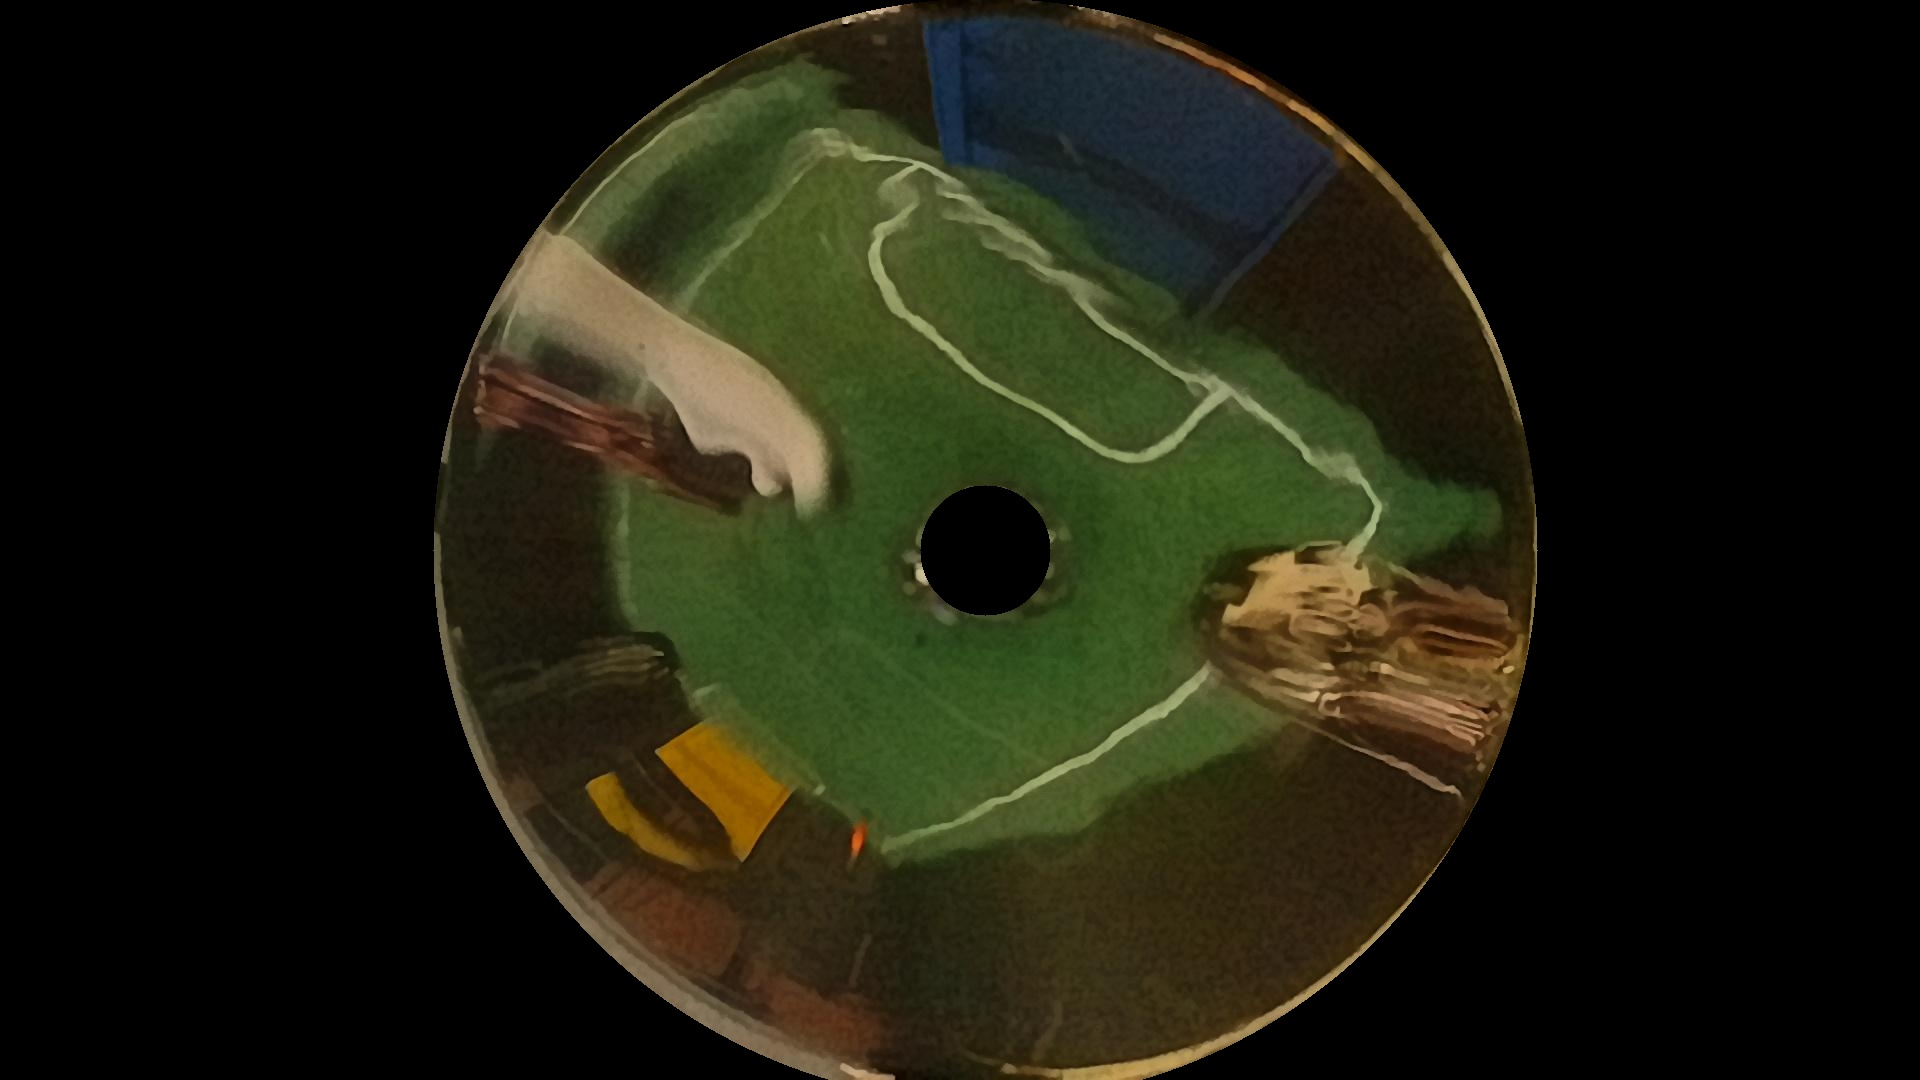ball: (837, 824, 864, 866)
blue-goal: (913, 32, 1327, 328)
robots: (1162, 556, 1518, 785), (464, 371, 742, 473), (491, 638, 678, 702)
yellow-goal: (574, 735, 786, 890)
